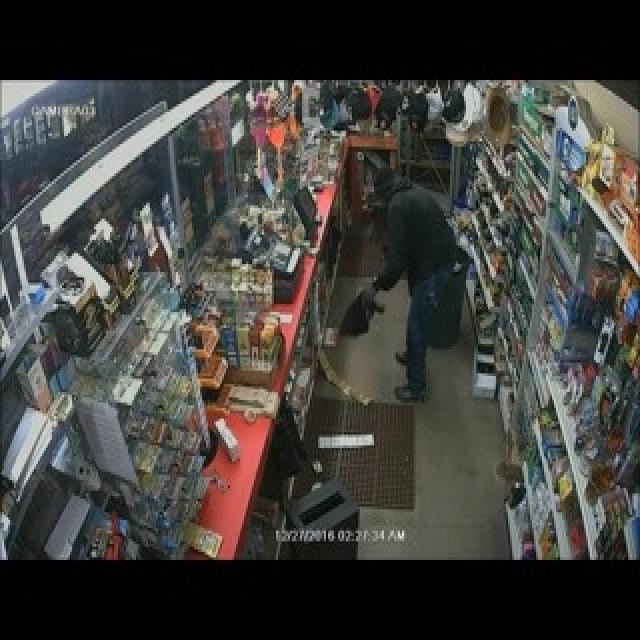thief: (360, 156, 450, 365)
